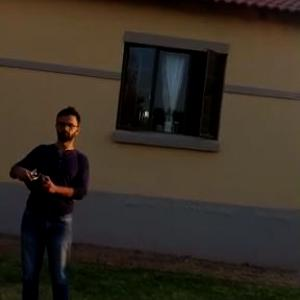follow: (4, 96, 94, 299)
